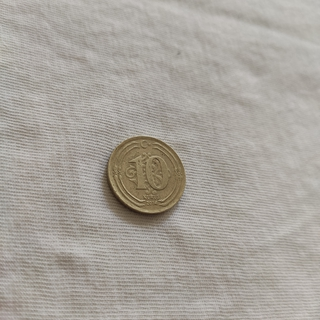10KURUS: (105, 134, 186, 217)
